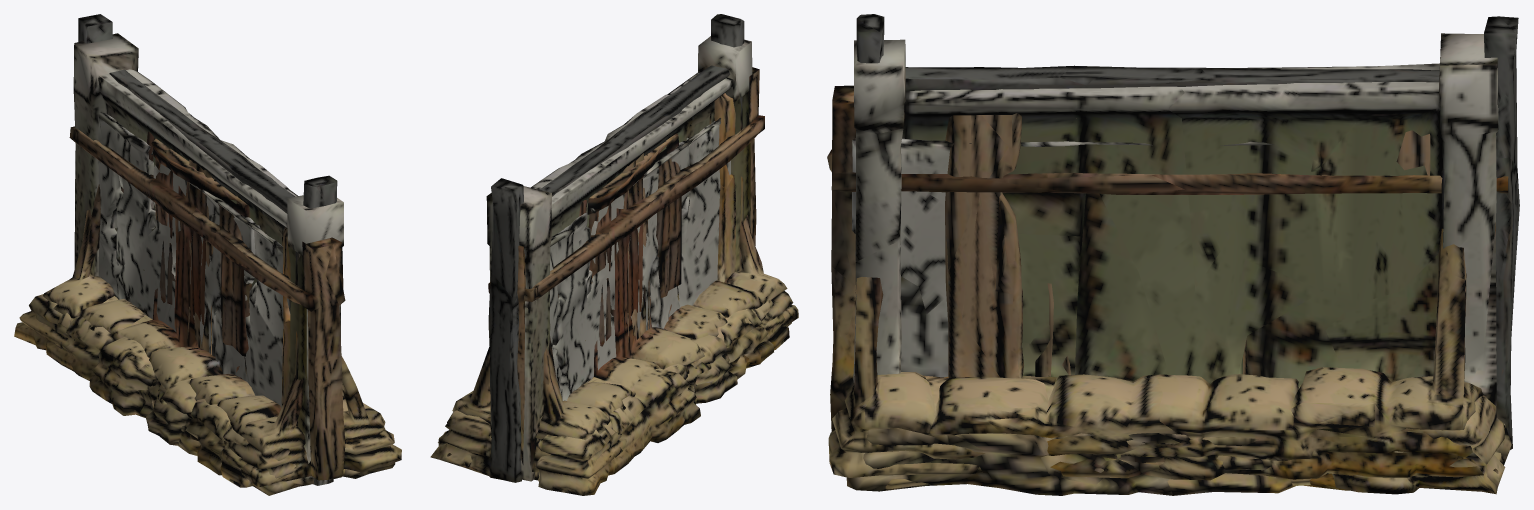
Rendered from wooden+barricade+3d+model.fbx.
The picture shows the model from 3 angles, left to right: view 1: azimuth 30°, elevation 25°; view 2: azimuth 150°, elevation 25°; view 3: azimuth 270°, elevation 25°; orthographic projection. The views are drawn at different scales.
Visible parts, largest first — view 1: wall chapas, wall militar, wall ruins, wall wood; view 2: wall chapas, wall militar, wall wood, wall ruins; view 3: wall militar, wall chapas, wall wood, wall ruins.
Boxes of the visible parts, x1,y1,x2,y2 form: wall chapas: (36, 126, 401, 487); wall militar: (14, 33, 343, 495); wall ruins: (70, 113, 395, 485); wall wood: (78, 14, 344, 487); wall chapas: (438, 67, 798, 472); wall militar: (447, 36, 791, 495); wall wood: (430, 14, 789, 482); wall ruins: (550, 118, 730, 434); wall militar: (854, 33, 1501, 489); wall chapas: (827, 85, 1508, 480); wall wood: (856, 14, 1519, 494); wall ruins: (846, 138, 1348, 495).
Bounding box in the file's own units: 13.89 × 24.08 × 35.99.
